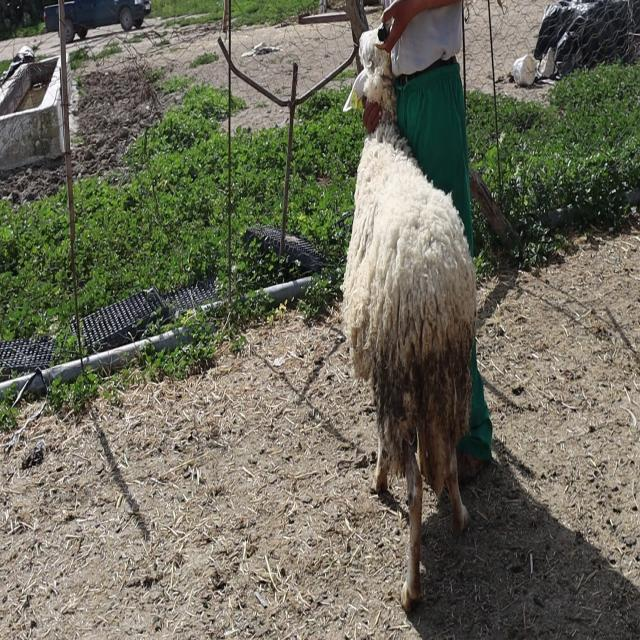Score_4: (342, 25, 476, 610)
